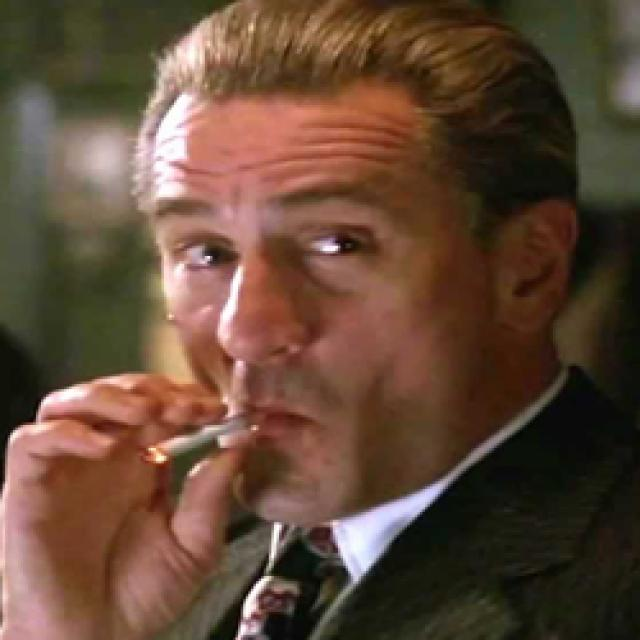Smooking: (124, 406, 264, 478)
